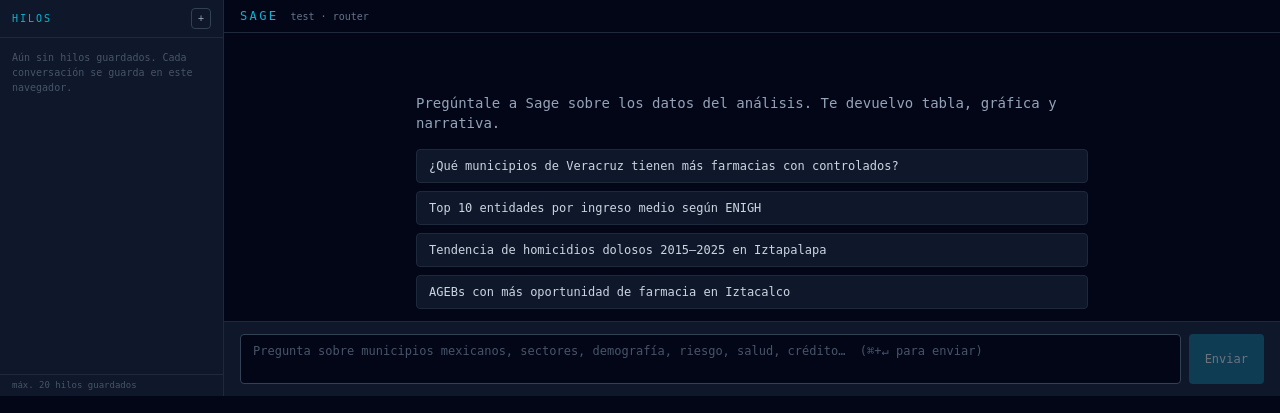
Scenario: SageMode error codes (#185) › prefers the backend's own error code
Click the 2nd button.
click(752, 166)  # box [416,149,1088,183]
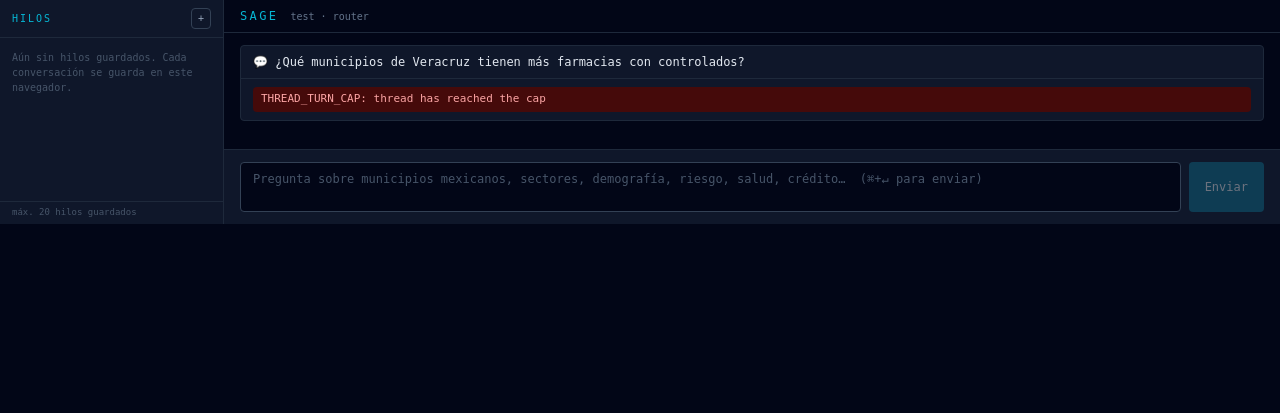
Result: the text "THREAD_TURN_CAP: thread has reached the cap" is shown at [253,87,1251,112]
